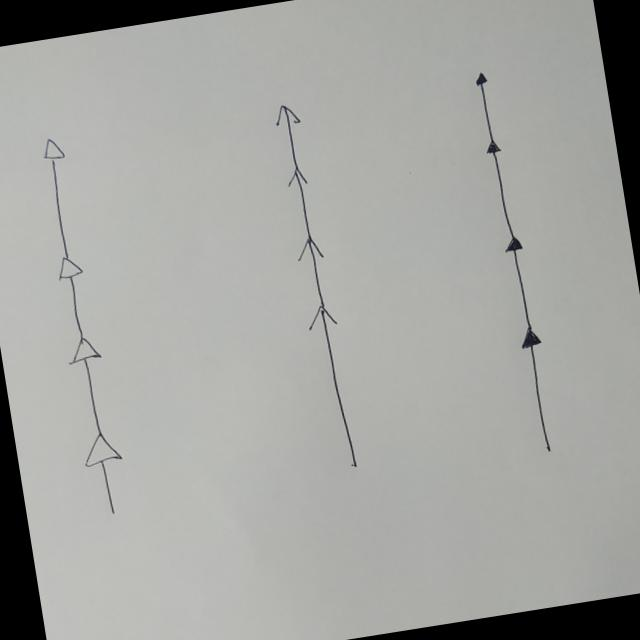arrow_line_up: (306, 304, 364, 472), (38, 135, 82, 260), (518, 326, 560, 454), (68, 338, 115, 438), (80, 432, 132, 519), (502, 236, 540, 332), (53, 255, 95, 341), (484, 139, 518, 240), (294, 236, 336, 309), (272, 102, 310, 170), (286, 168, 318, 240), (472, 70, 500, 142)
